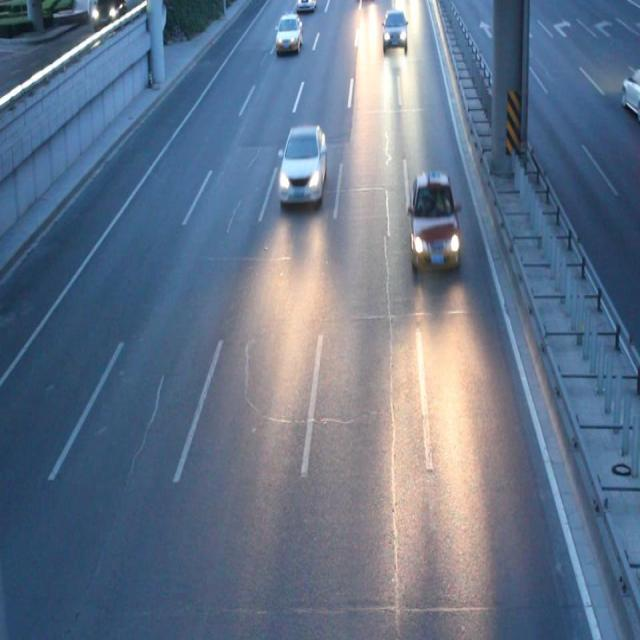car: (405, 171, 460, 271), (279, 126, 326, 205), (381, 11, 407, 52), (275, 15, 302, 51)
